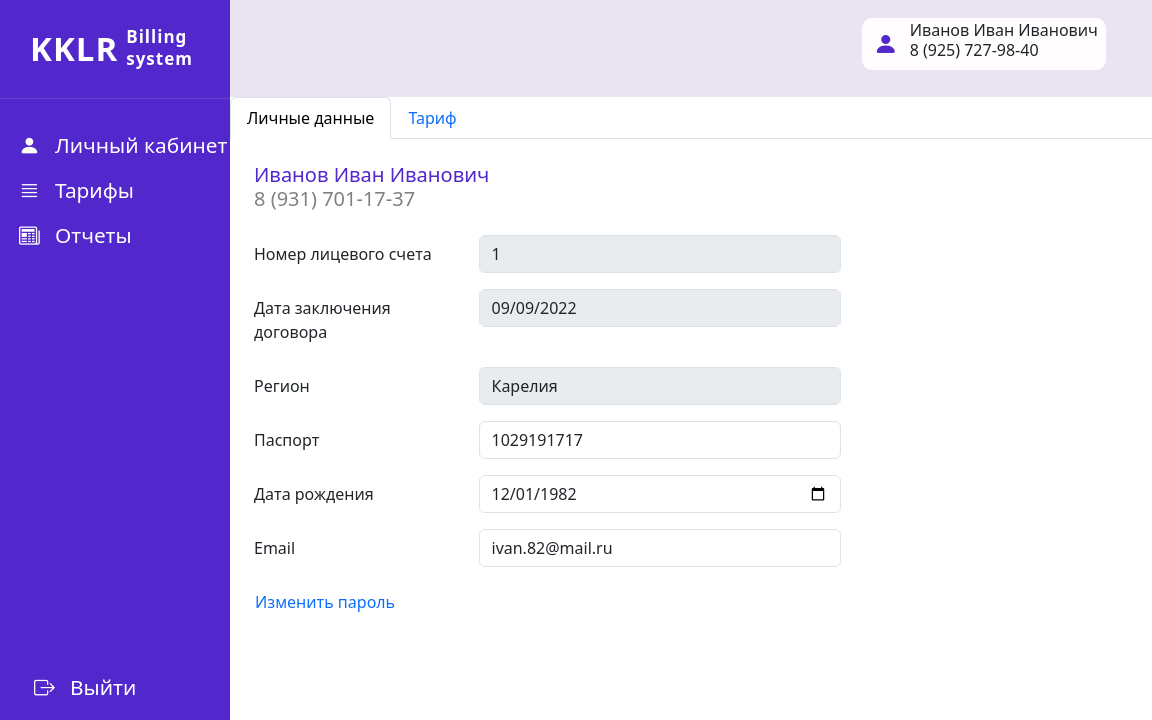
Test: routes › check redirect from PersonalData to Reports
Click the button with test id "reports" at [73, 236], box [15,220,132,252]
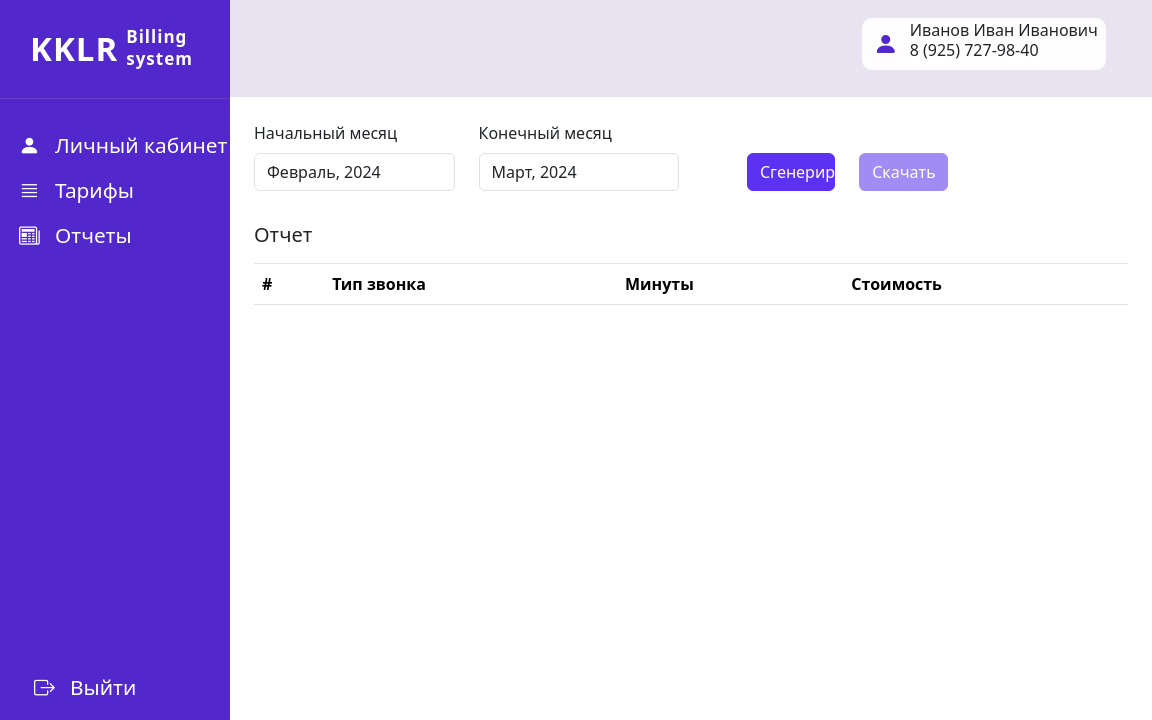
Check: the heading "Отчет" is shown, box [254,221,312,248]
Check: the button "Сгенерировать" is shown, box [747,153,835,191]
